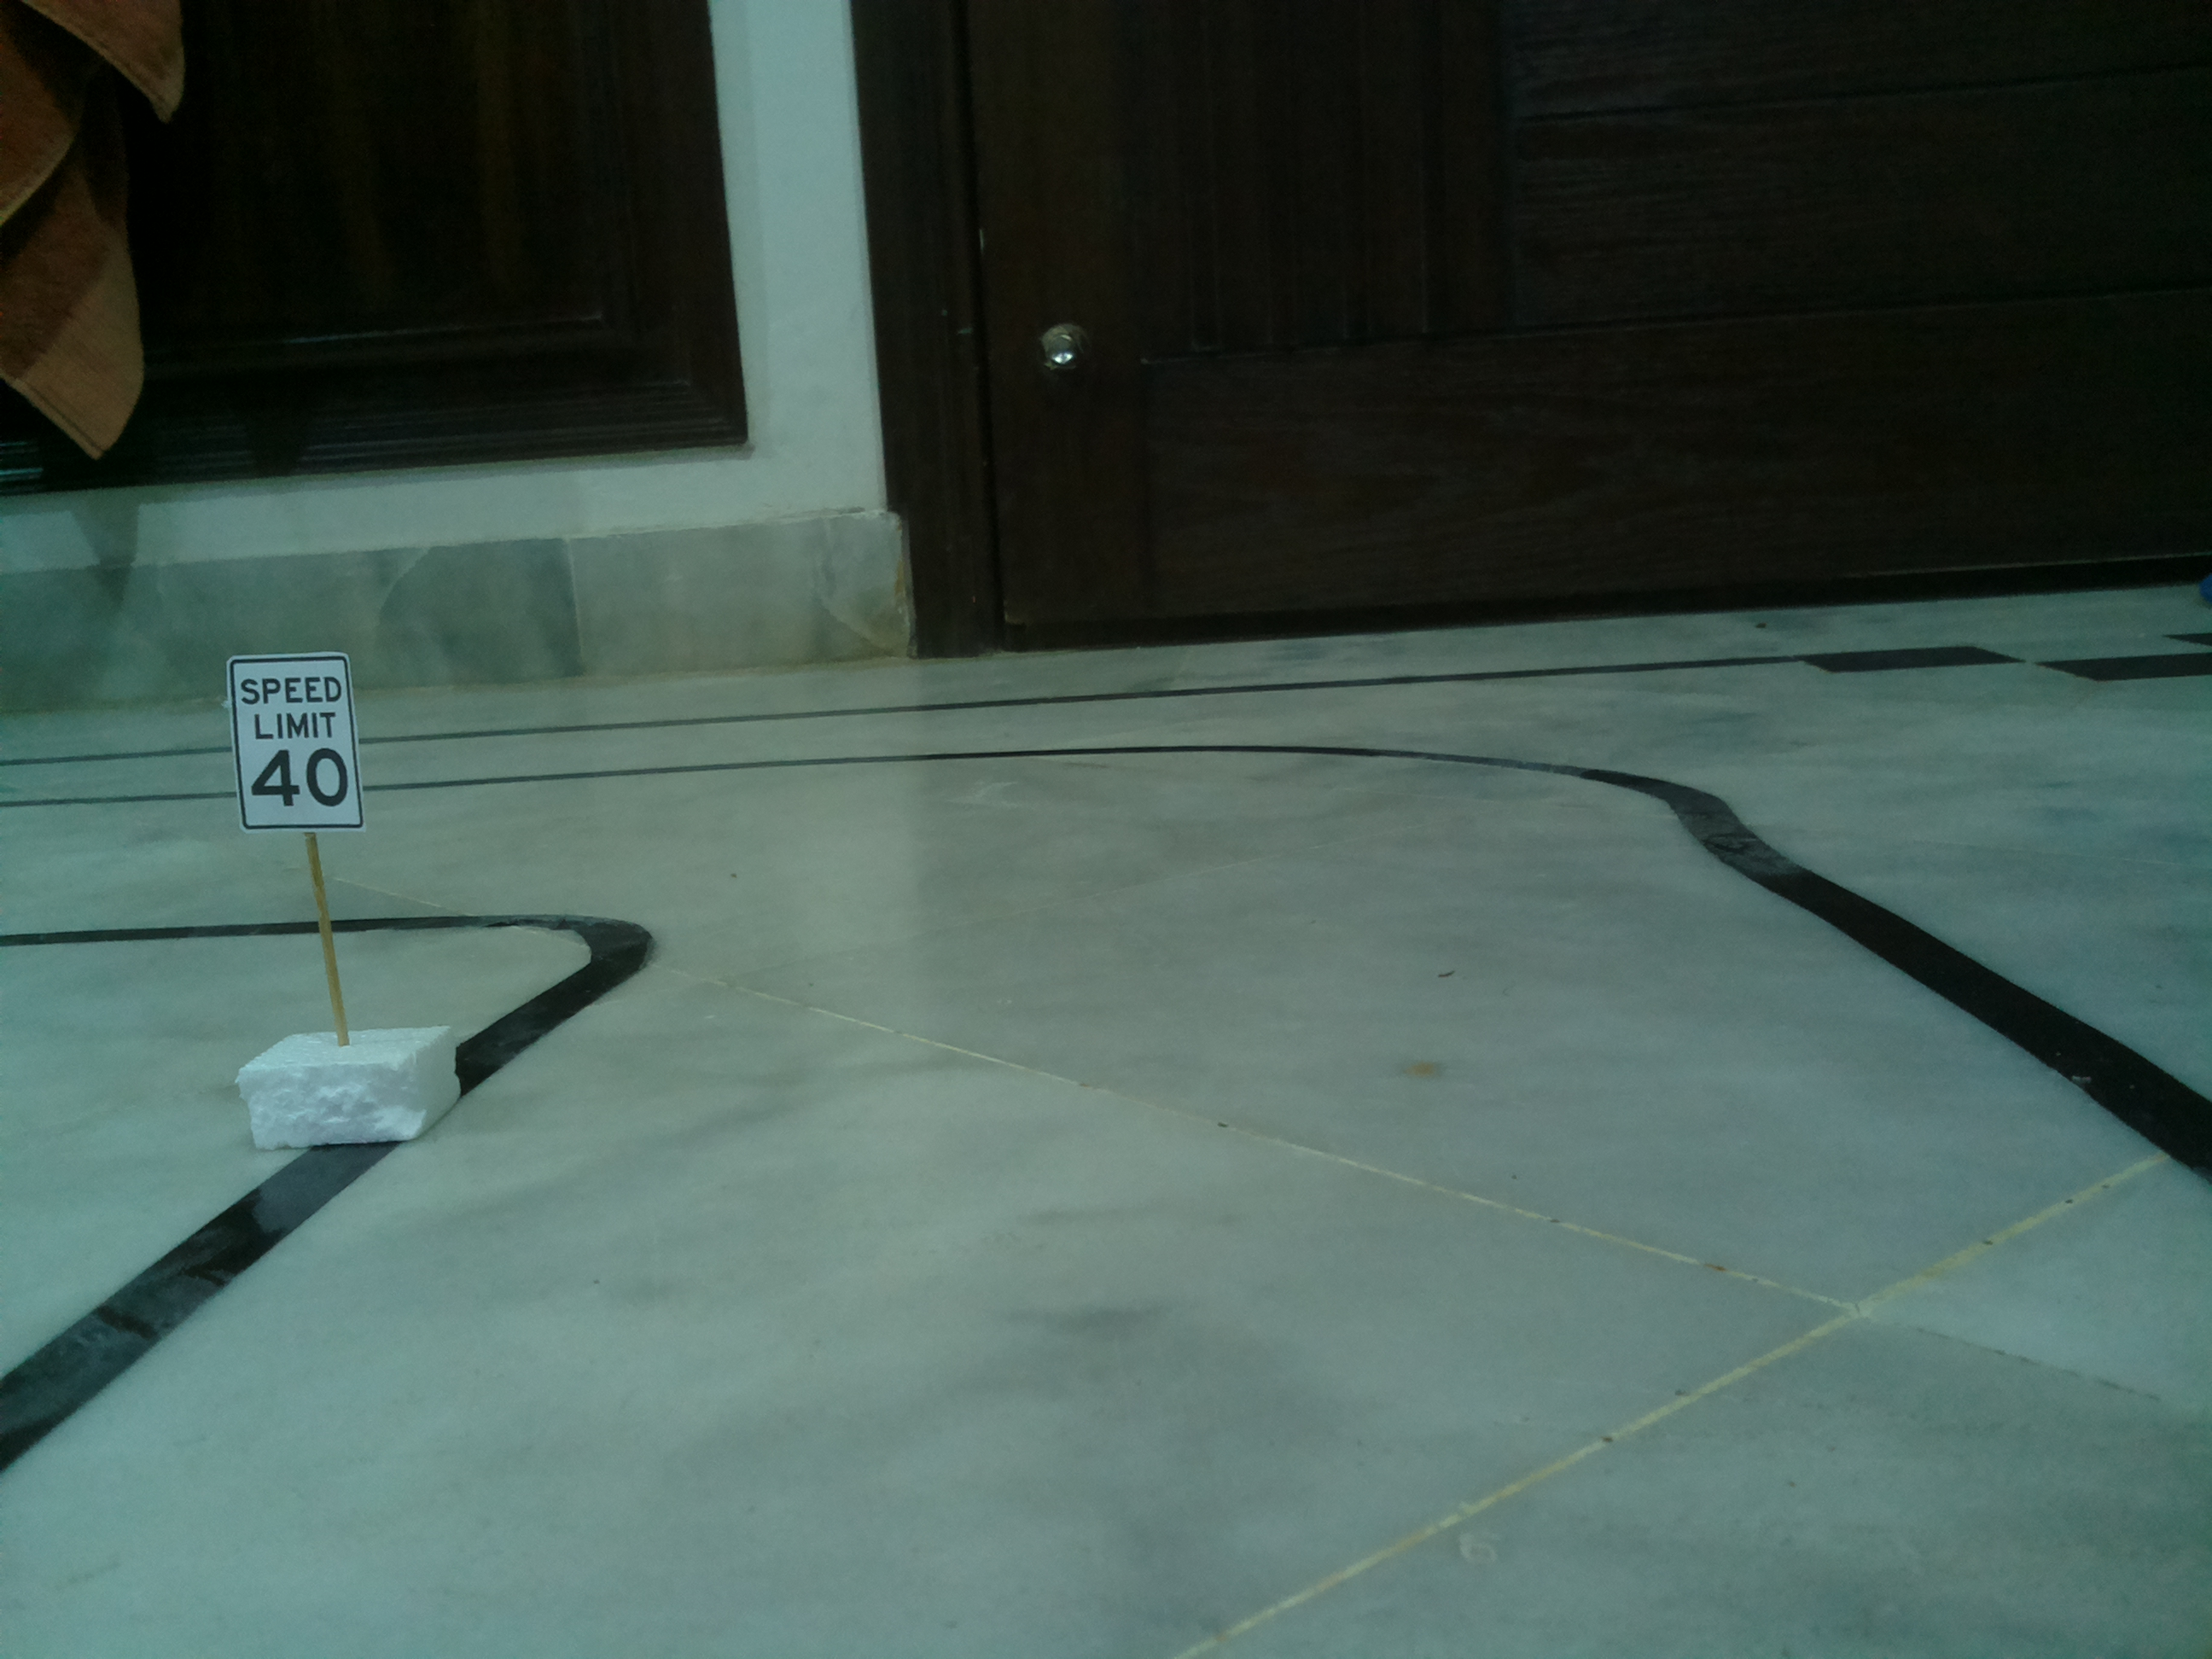Speed limit 40: (223, 650, 368, 835)
